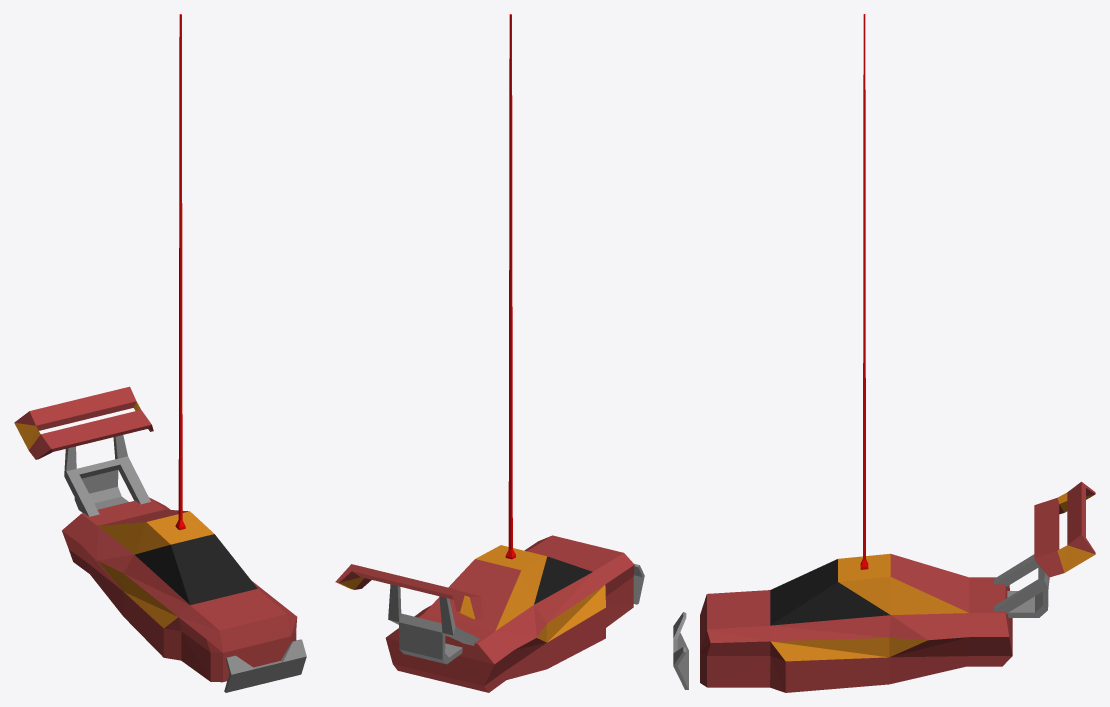
Rendered from Car_1.fbx.
3 renders of one model, left to right at view 1: azimuth 30°, elevation 25°; view 2: azimuth 150°, elevation 25°; view 3: azimuth 270°, elevation 25°, orthographic. The views are drawn at different scales.
Parts seen in each view (by area): view 1: Car_1_body, Car_1_spoiler, Car_1_bumper, Antene; view 2: Car_1_body, Car_1_spoiler, Antene; view 3: Car_1_body, Car_1_spoiler, Antene, Car_1_bumper.
Part boxes in pixels (x1,y1,x2,y2): Car_1_body: [62, 497, 297, 682]; Car_1_spoiler: [14, 386, 153, 516]; Car_1_bumper: [224, 639, 306, 692]; Antene: [175, 14, 185, 530]; Car_1_body: [385, 535, 634, 692]; Car_1_spoiler: [335, 564, 482, 664]; Antene: [505, 14, 515, 559]; Car_1_body: [700, 553, 1012, 692]; Car_1_spoiler: [994, 481, 1095, 617]; Antene: [860, 14, 868, 569]; Car_1_bumper: [673, 612, 688, 689].
Size of the model in its own units: 13.7 by 67.51 by 39.42.
